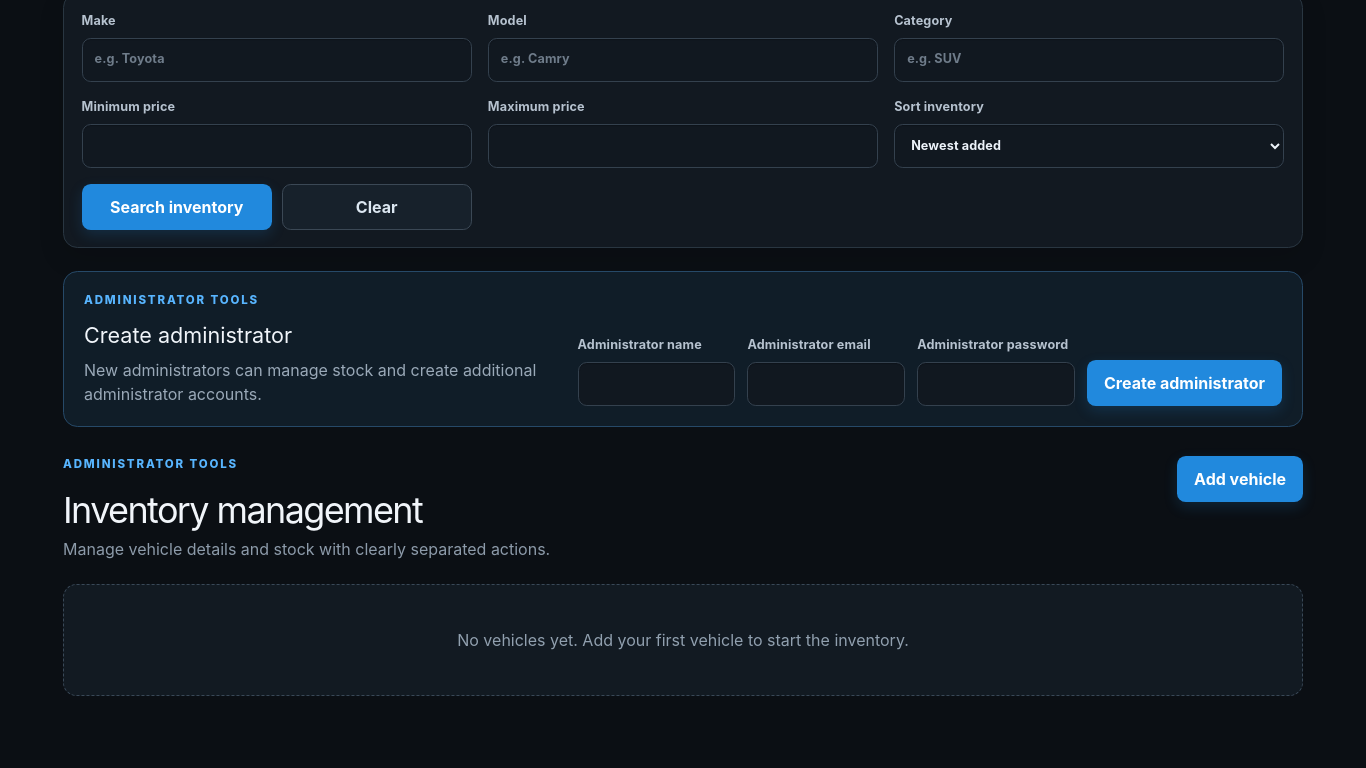
Scenario: inventory application › shows an admin-only form that creates an admin account with the current token
(page scrolled)
Expected: the heading "Create administrator" is shown, [84, 322, 292, 348]
Type "New Admin" into the field labelled "Administrator name" at [656, 384], box [578, 362, 735, 406]
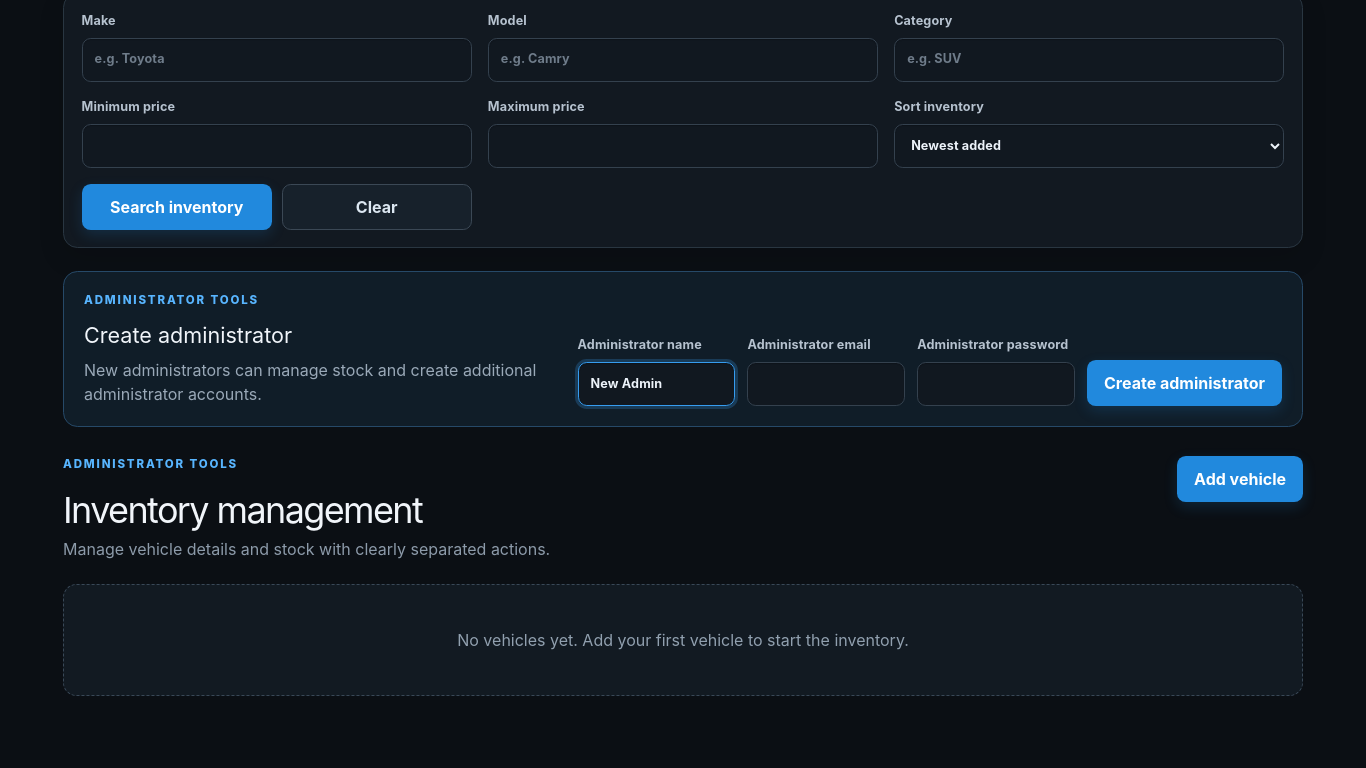
Type "new-admin@example.com" into the field labelled "Administrator email" at [826, 384], box [747, 362, 905, 406]
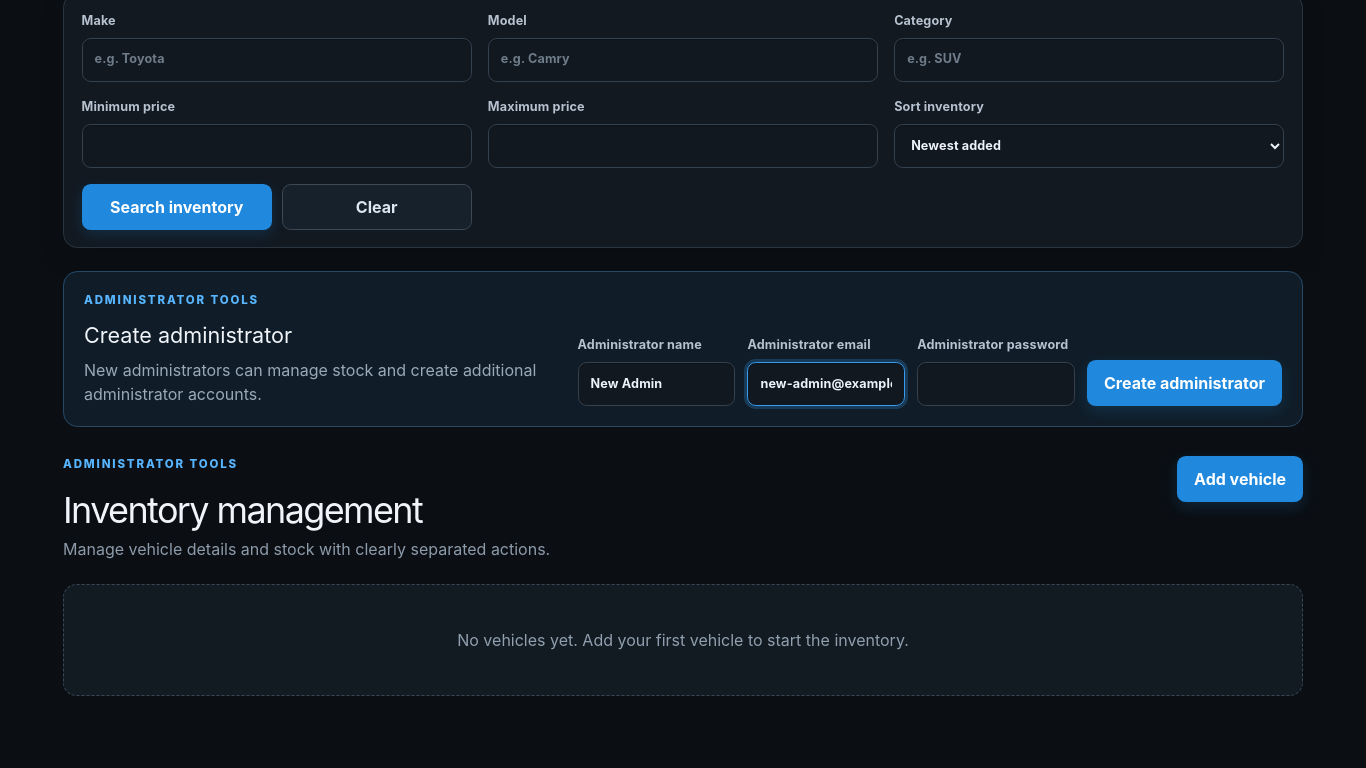
Type "secure-password-123" into the password field labelled "Administrator password" at [996, 384], box [917, 362, 1075, 406]
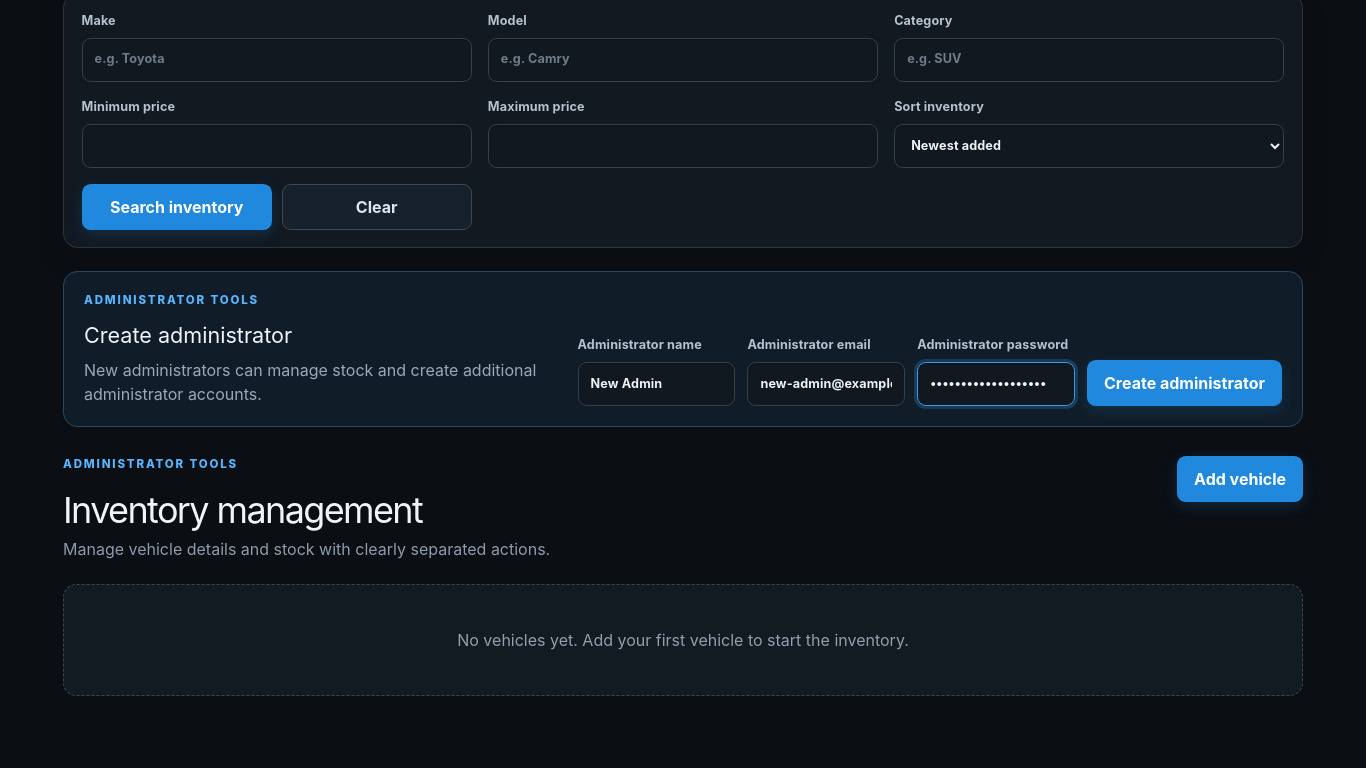
Click the button "Create administrator" at [1184, 383], box [1087, 360, 1282, 406]
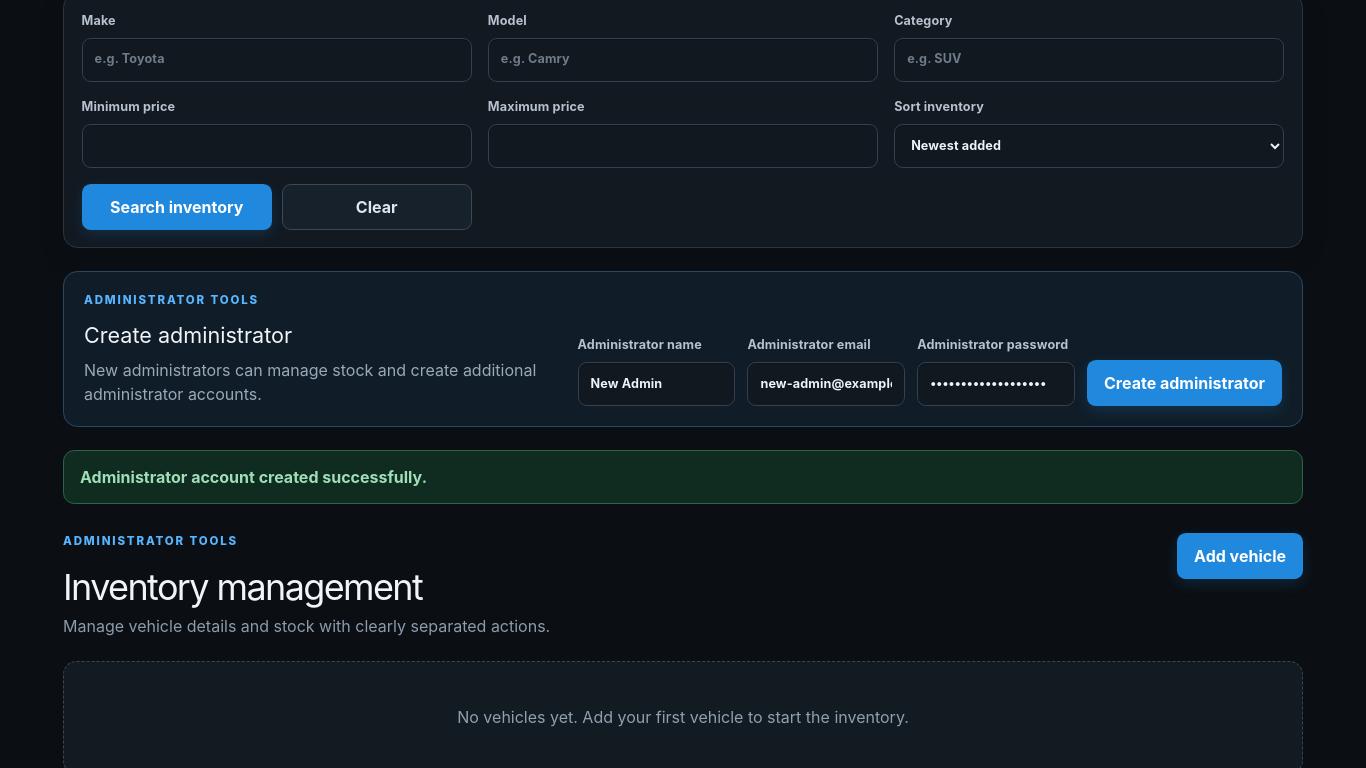
Result: the text "Administrator account created successfully." is shown at [63, 450, 1303, 504]
